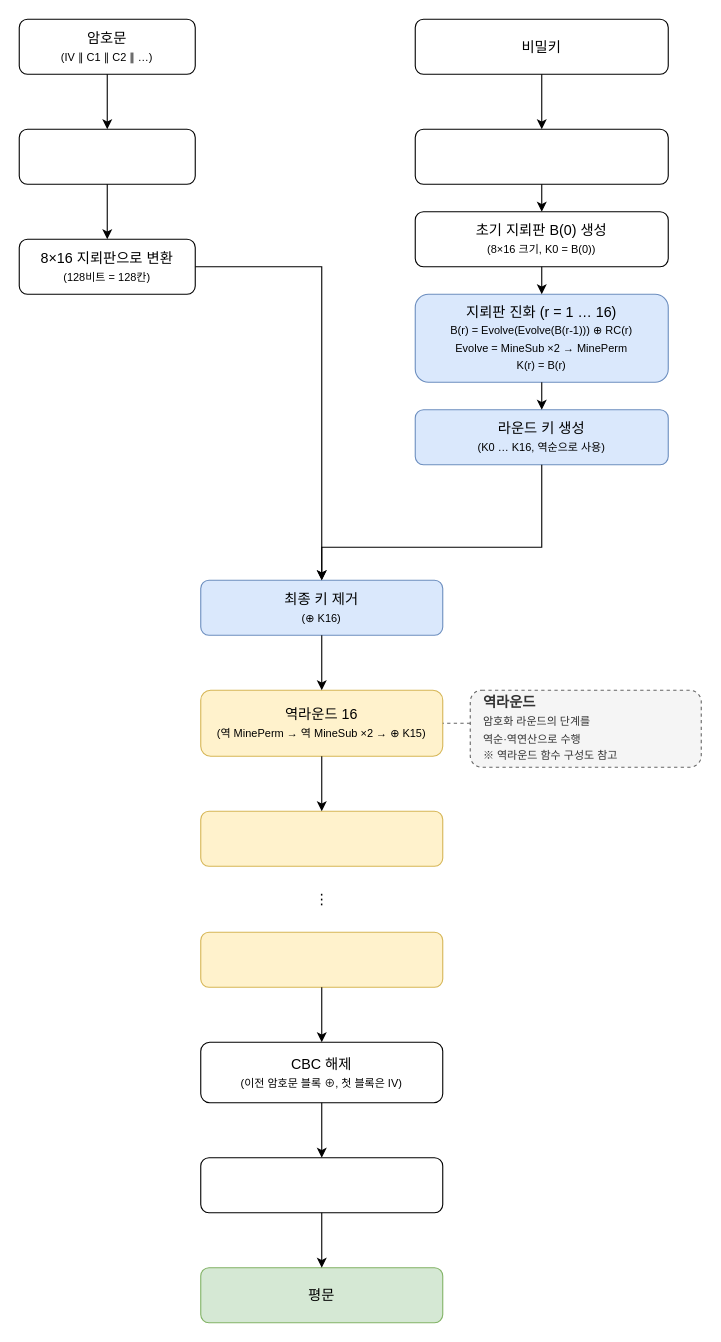
This 721x1342 diagram has some shape labels left out. The shapes that lost their labels are listed below. From the top down, each one's centre as x and y in pixels, then its label:
At (x=106, y=156): "IV 분리 후 16바이트 블록 분할".
At (x=541, y=156): "SHA-256 해시 (앞 128비트 사용)".
At (x=321, y=838): "역라운드 15 (역 MinePerm → 역 MineSub ×2 → ⊕ K14)".
At (x=321, y=959): "역라운드 1 (역 MinePerm → 역 MineSub ×2 → ⊕ K0)".
At (x=321, y=1185): "패딩 제거 (PKCS#7)".
